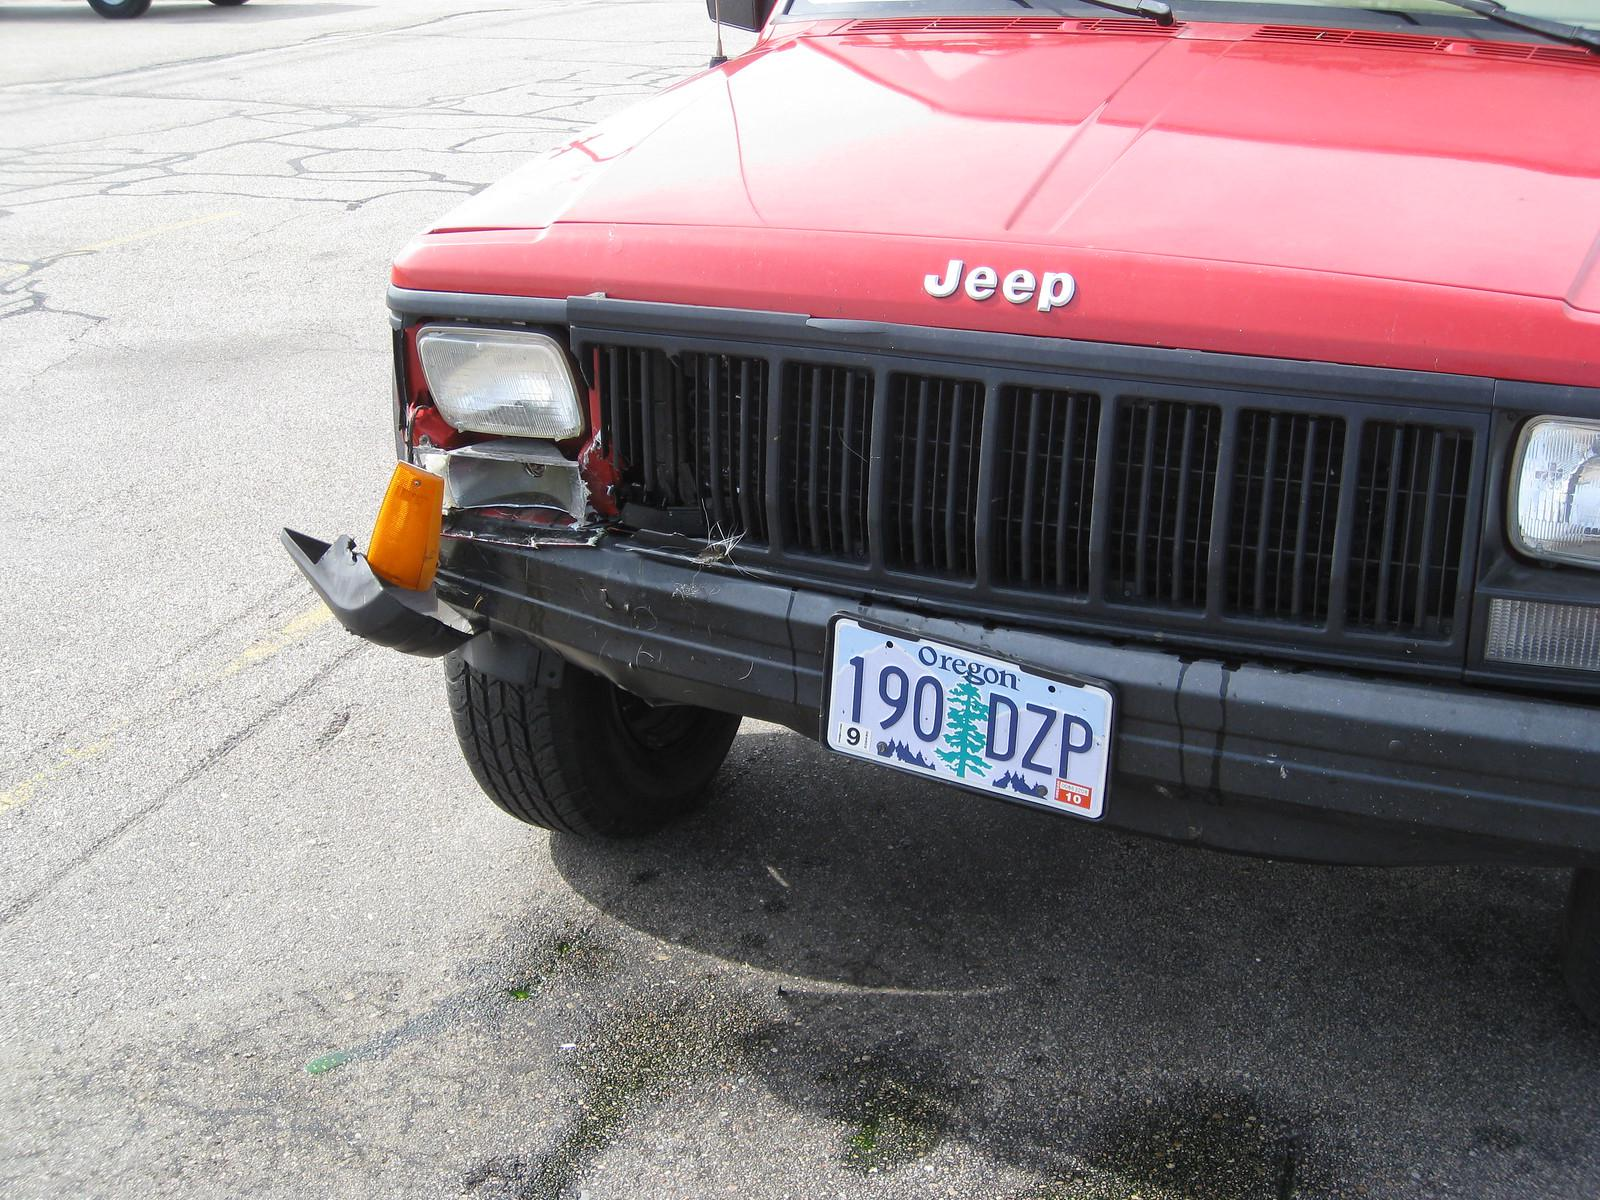Headlight-Damage: (331, 308, 603, 683)
